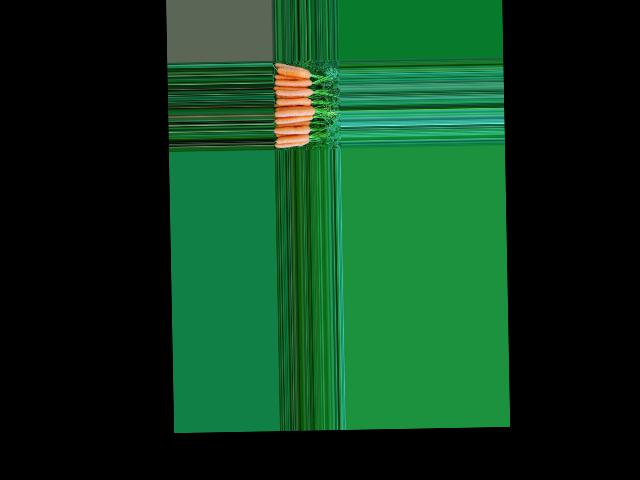carrot: (273, 141, 308, 146)
